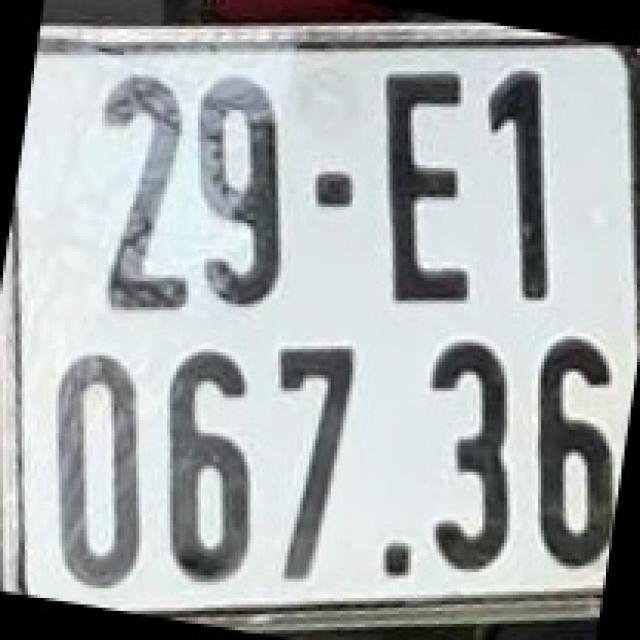0: (52, 349, 146, 585)
1: (485, 64, 563, 304)
2: (90, 64, 192, 314)
3: (424, 336, 514, 572)
6: (160, 346, 256, 582), (534, 336, 612, 566)
7: (272, 342, 359, 586)
9: (194, 71, 290, 310)
E: (380, 61, 476, 304)
